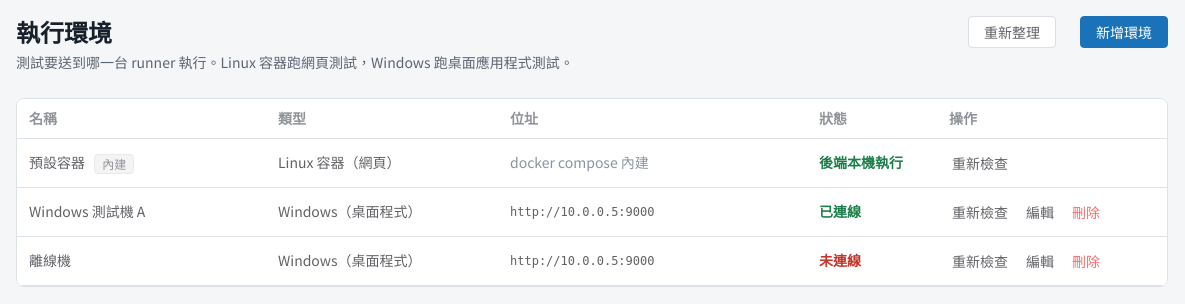
Test case: RunnerEnvironmentsPage › deletes after confirmation
The width and height of the screenshot is (1185, 304).
Step 1. Click the button with test id "btn-delete-env-1" → (1086, 212), box [1069,196,1103,228]
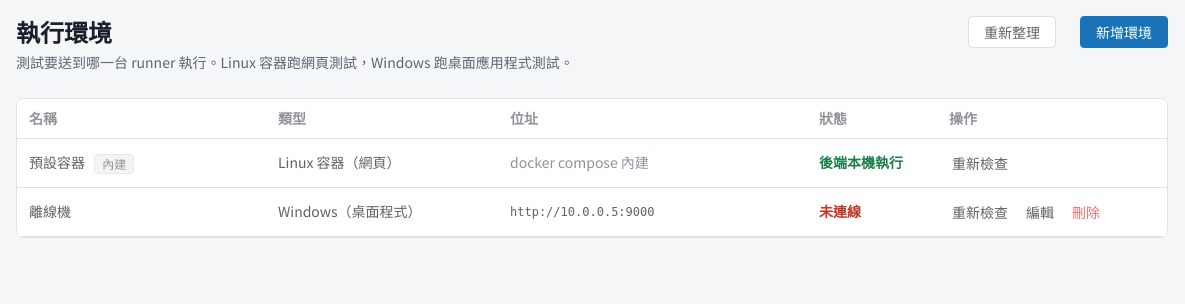
Now the text "Windows 測試機 A" is gone
